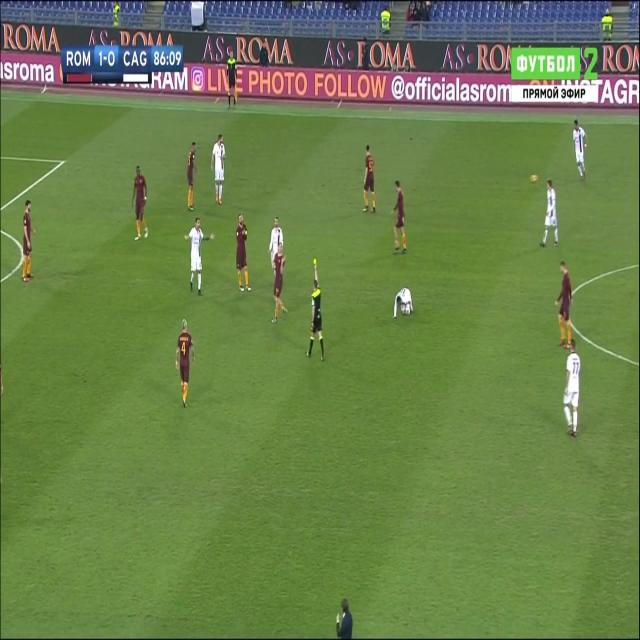Ball: (529, 170, 538, 186)
Player: (184, 217, 216, 299), (562, 339, 582, 442), (175, 316, 197, 408), (554, 259, 574, 349), (269, 244, 289, 326), (234, 211, 253, 294), (538, 178, 560, 249), (21, 198, 37, 289), (130, 164, 148, 242), (209, 134, 227, 206), (572, 118, 590, 186), (391, 179, 407, 255), (360, 144, 376, 217), (186, 140, 200, 214), (391, 286, 415, 324), (267, 214, 285, 262)
Referee: (305, 268, 327, 366), (224, 49, 238, 106)
